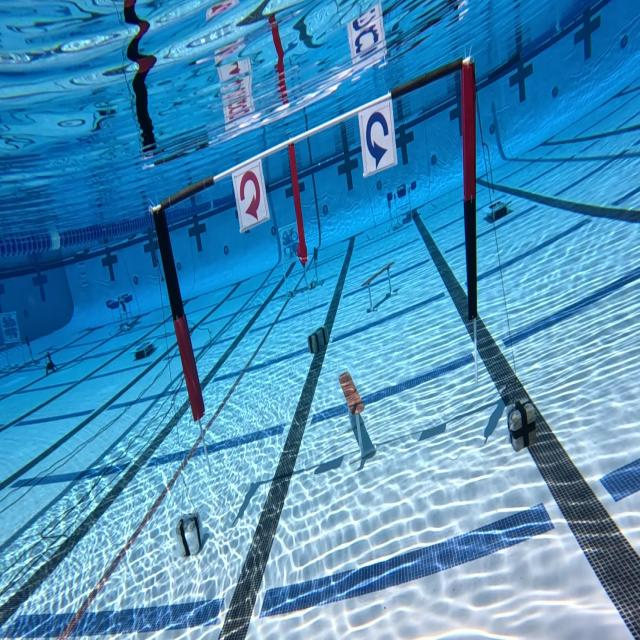blue_side: (358, 108, 397, 174)
red_side: (234, 171, 268, 230)
